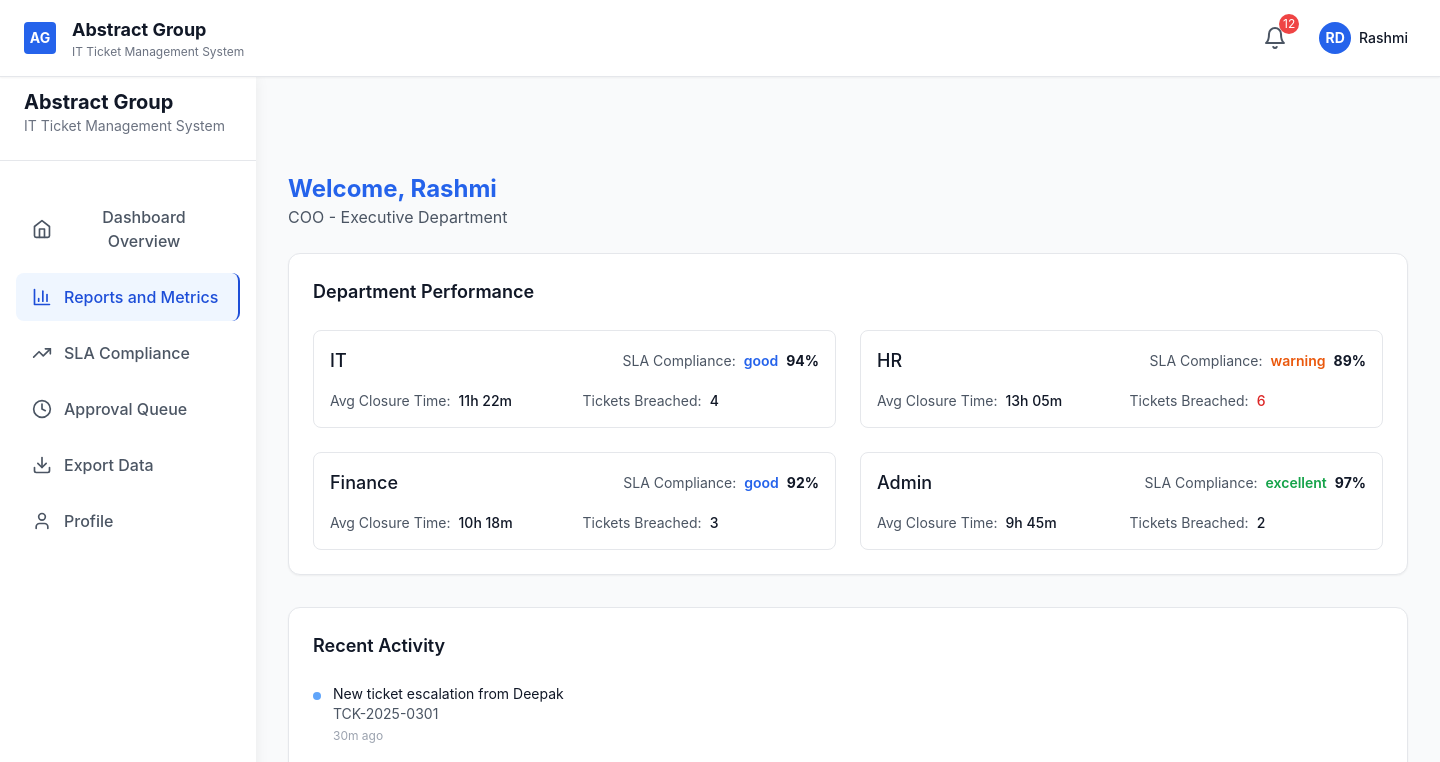
it: COODashboard - unit tests › navigates to Approval Queue and shows pending count
Note: Click the first matching sidebar navigation button labeled 'Approval Queue'
Click the button "Approval Queue" at [128, 409], box [16,385,240,433]
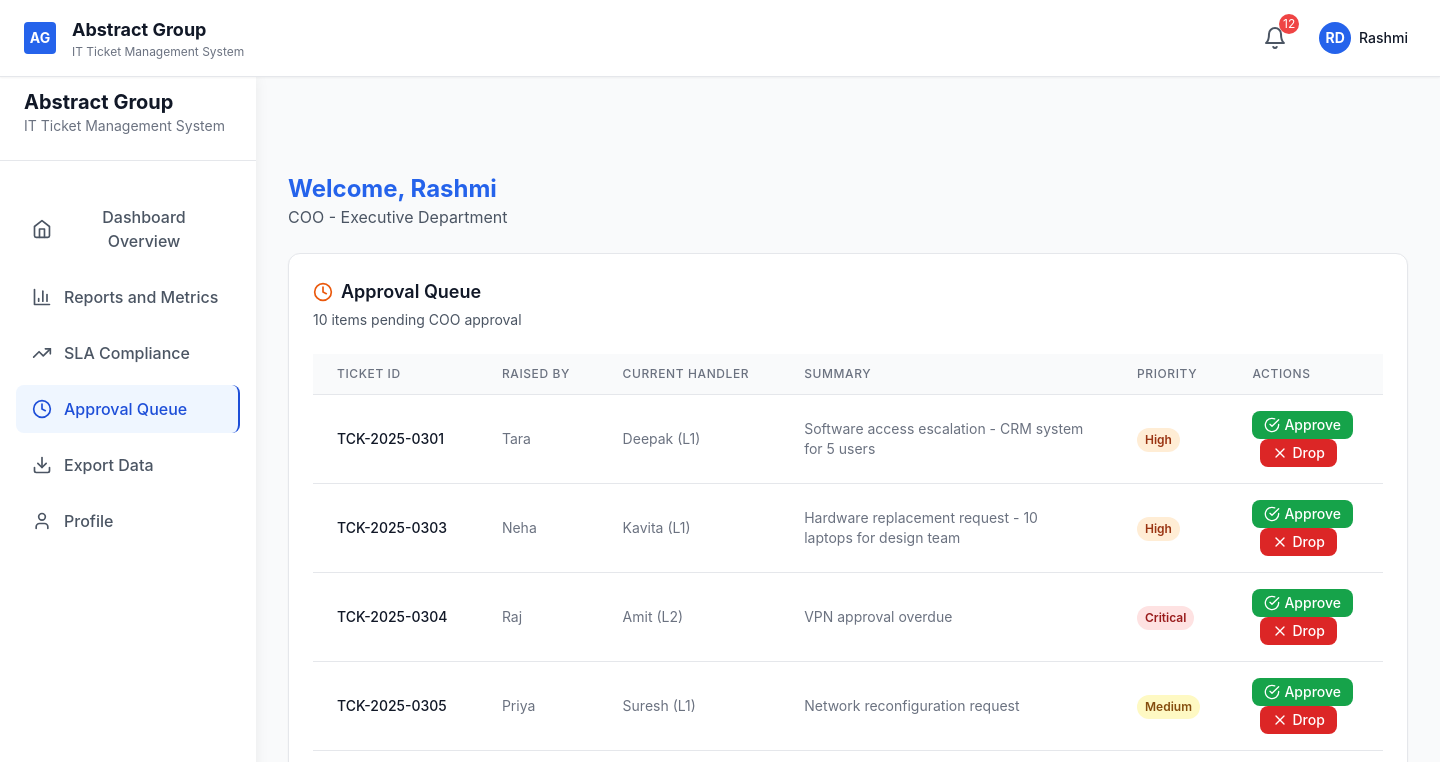
Expected: the heading "Approval Queue" is shown, [313,281,481,302]
Expected: the text "10 items pending COO approval" is shown, [313,310,522,330]
